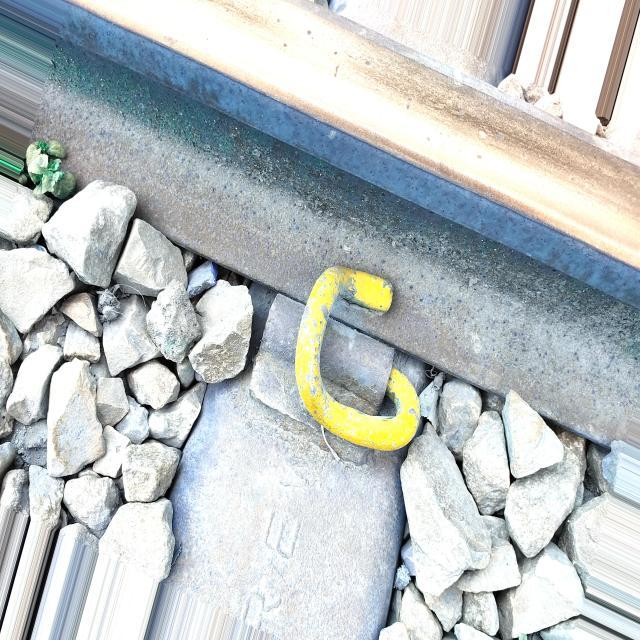Good Fasteners: (249, 256, 439, 471)
